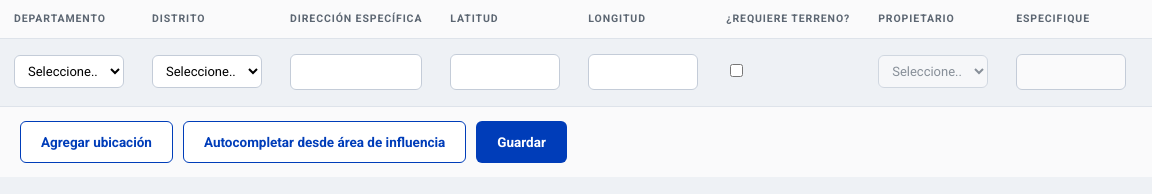
LocalizacionTab · CU-PRE-12 › autocompletar trae las filas del área de influencia sin guardarlas
Expected: the dropdown named "Departamento de la fila 1" is shown, [14,55,124,88]
Click the button "Autocompletar desde área de influencia" at (325, 142), box [183,121,466,163]
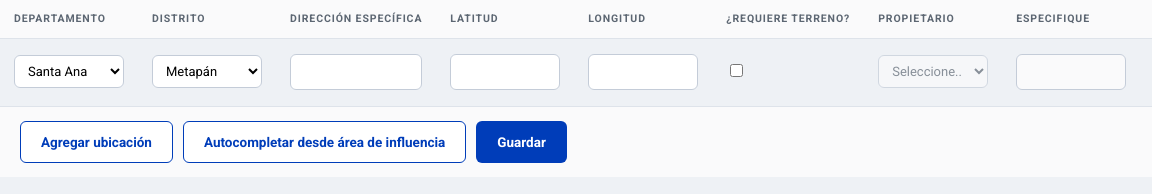
Now the dropdown named "Distrito de la fila 1" shows "Metapán", box [152,55,262,88]
